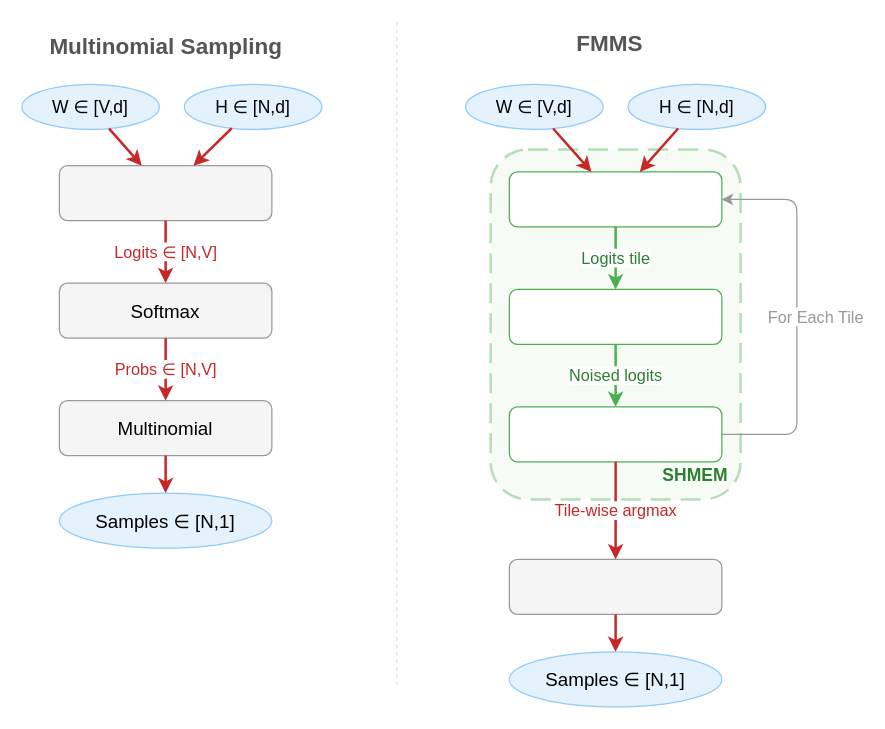
The diagram is 885 pixels wide and 729 high, and some of its shapes have lost their labels. Here are the shapes that lost their labels. From the top down, the centre of each, then its label:
At point (165, 192): "Matmul (cuBLAS)".
At point (615, 199): "Tile Matmul".
At point (615, 316): "Add Gumbel Noise".
At point (615, 434): "Stage I argmax".
At point (615, 586): "Stage II argmax".
